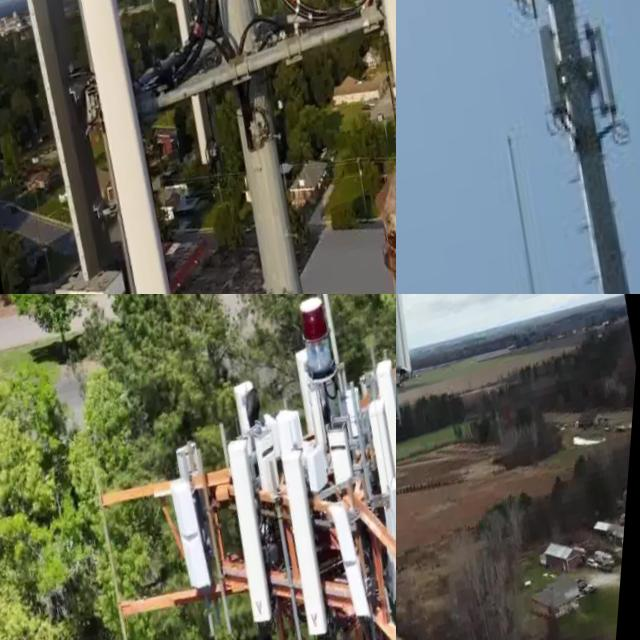GSM Antenna: (74, 0, 181, 294), (24, 0, 129, 294), (136, 0, 247, 191), (268, 440, 352, 640), (217, 436, 293, 633), (162, 467, 229, 601), (325, 500, 387, 630), (358, 400, 396, 589), (363, 350, 396, 558), (582, 16, 640, 130), (533, 23, 581, 132), (199, 0, 275, 54), (396, 294, 432, 388)
